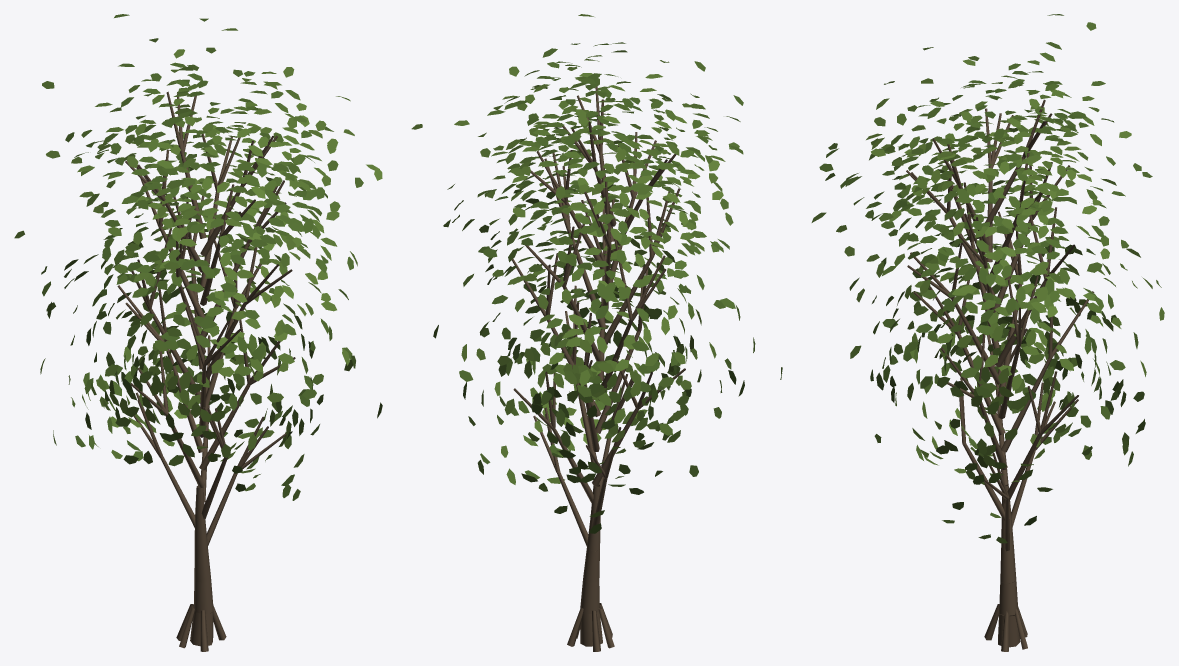
Rendered from poplar_0.glb.
3 renders of one model, left to right at view 1: azimuth 30°, elevation 25°; view 2: azimuth 150°, elevation 25°; view 3: azimuth 270°, elevation 25°, orthographic.
Visible parts, largest first — view 1: poplar_0_LOD0; view 2: poplar_0_LOD0; view 3: poplar_0_LOD0.
Part boxes in pixels (bbox=[...]): poplar_0_LOD0: bbox=[14, 14, 382, 651]; poplar_0_LOD0: bbox=[411, 14, 782, 651]; poplar_0_LOD0: bbox=[811, 14, 1164, 651].
Size of what is drawn, in the model's own units: 1.54 by 2.82 by 1.5.
